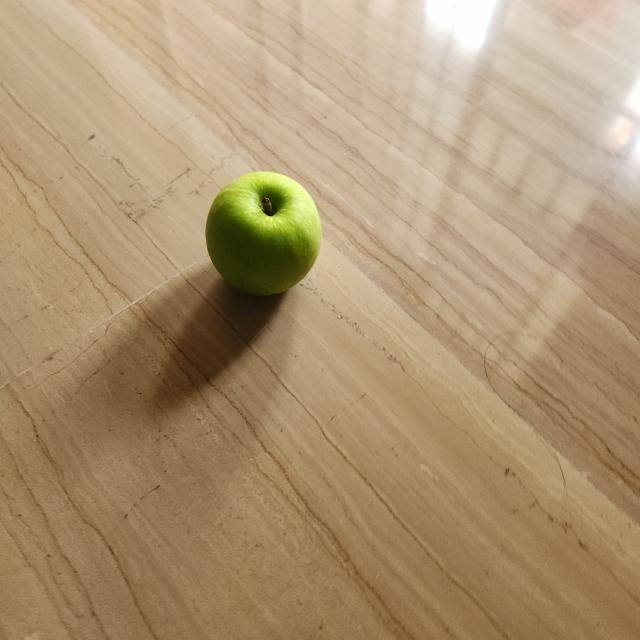apple: (203, 169, 321, 308)
